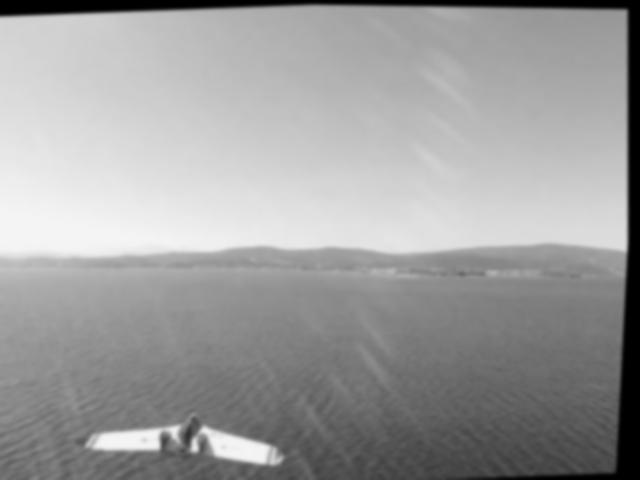hedef: (70, 393, 298, 480)
